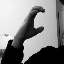c: (22, 5, 46, 37)
